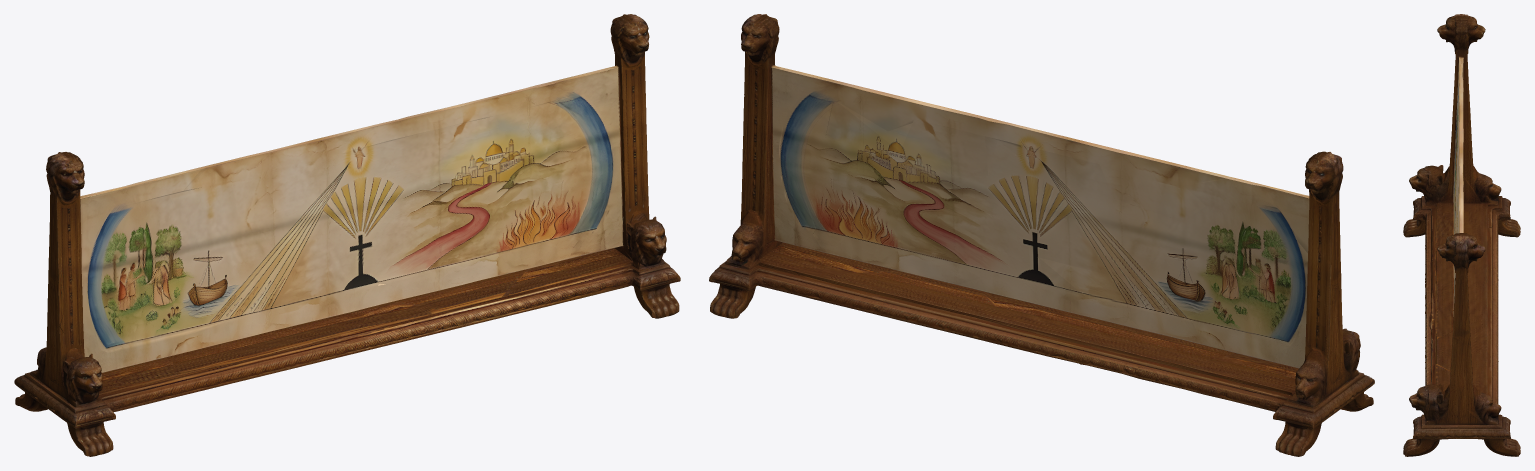
Rendered from course-of-time.glb.
3 views of the same model, side by side, from view 1: azimuth 30°, elevation 25°; view 2: azimuth 150°, elevation 25°; view 3: azimuth 270°, elevation 25° (orthographic). The views are drawn at different scales.
Size of the model in its own units: 1.9 by 0.8232 by 0.4021.
1 material, 1 textured.
